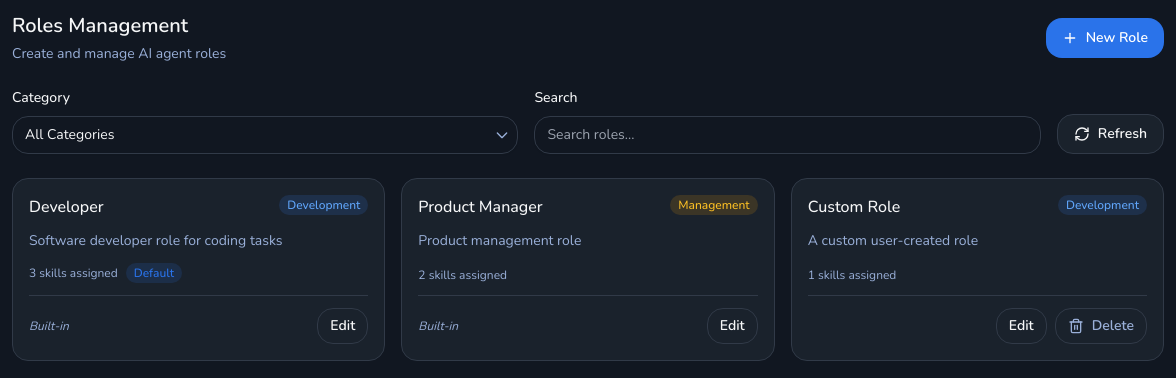
Test: RolesTab › Search Functionality › should filter roles by category
Type "management" into the field with placeholder "Search roles..." at (788, 135), box [534, 116, 1041, 154]
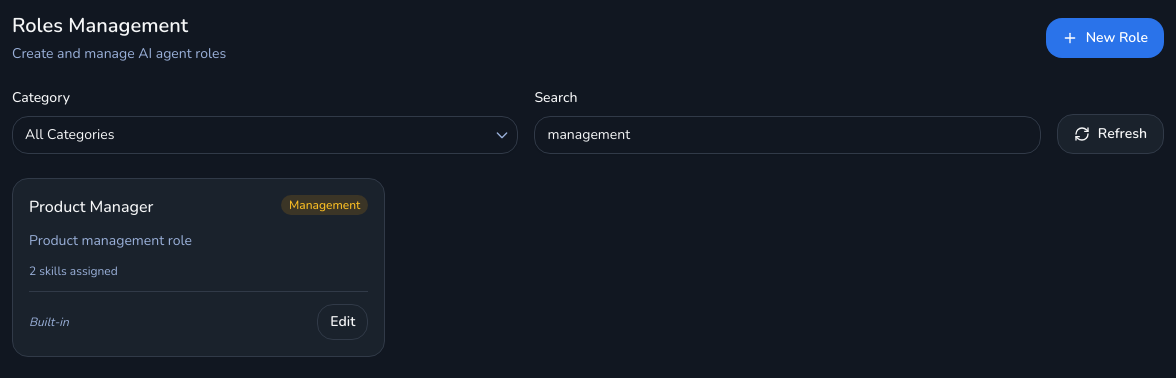
expect the heading "Product Manager" is shown: met, box [29, 195, 153, 219]
expect the heading "Developer" is gone: met
